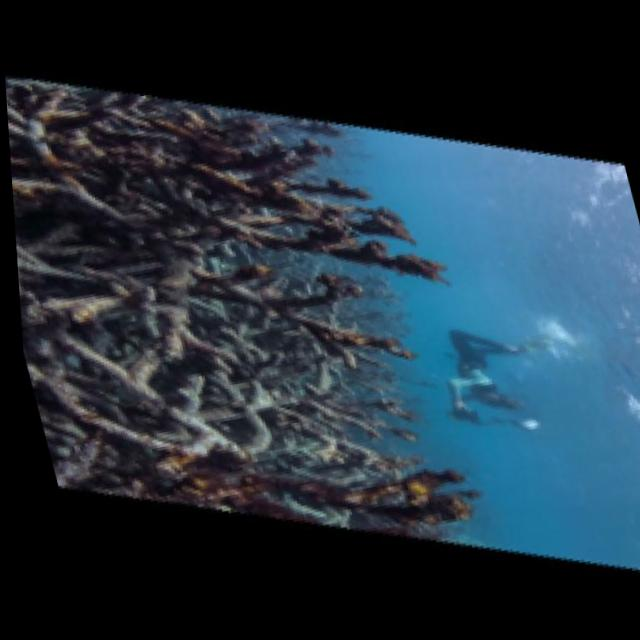Dead Coral: (17, 54, 459, 373), (139, 369, 515, 566), (187, 274, 441, 418)
